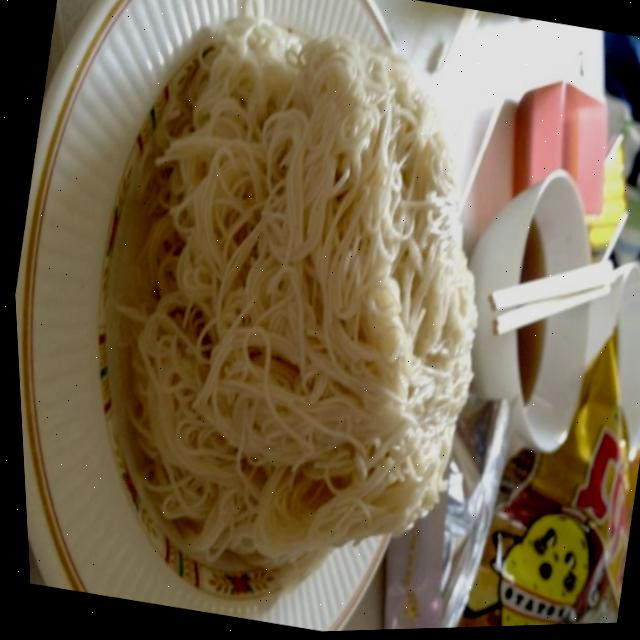面条主食: (0, 0, 562, 640)
